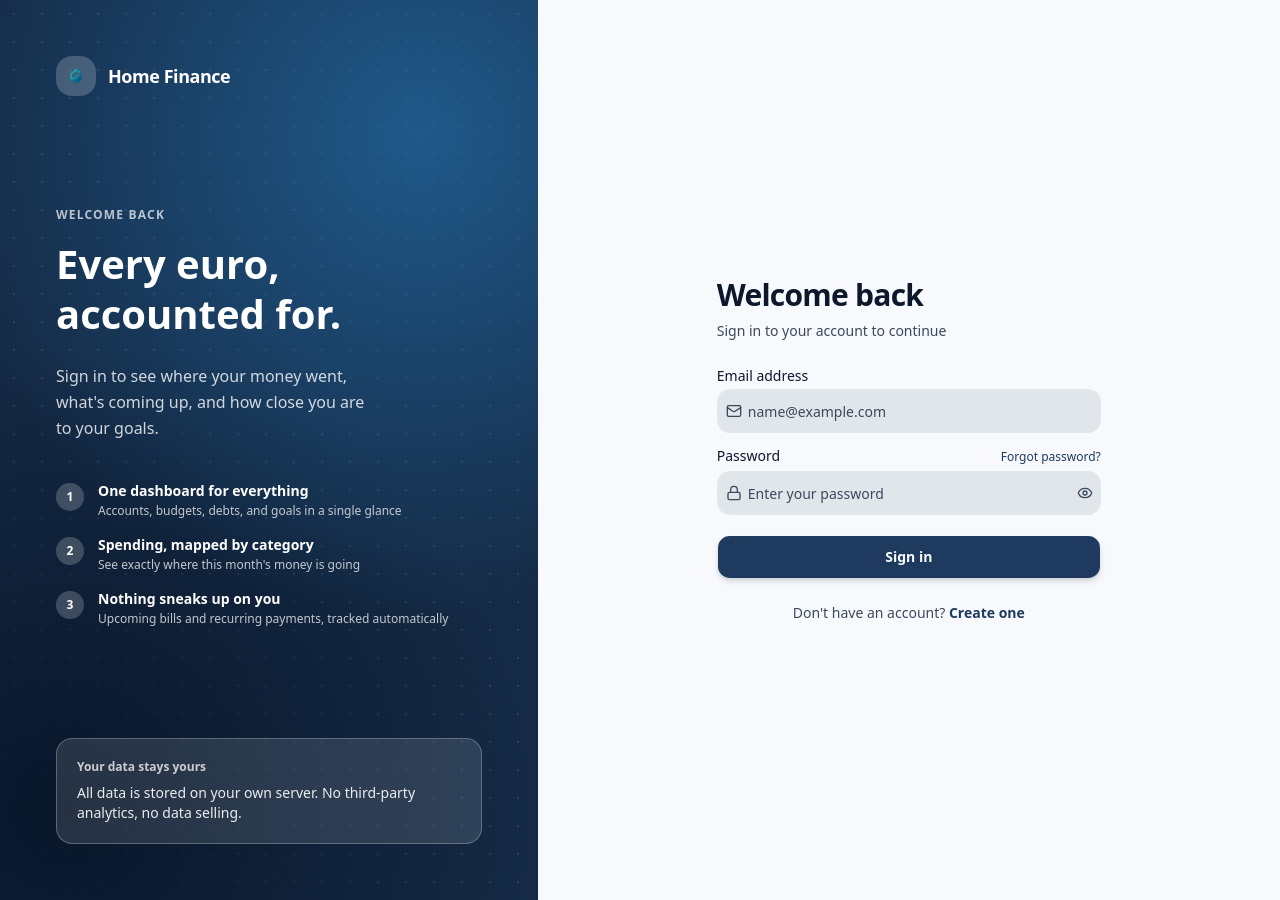
Test: LoginPage › shows a validation error when submitted empty
What coordinates should you click on to do the following:
click the button "Sign in"
I would click on:
 (909, 557)
Its box is left=717, top=535, right=1101, bottom=579.
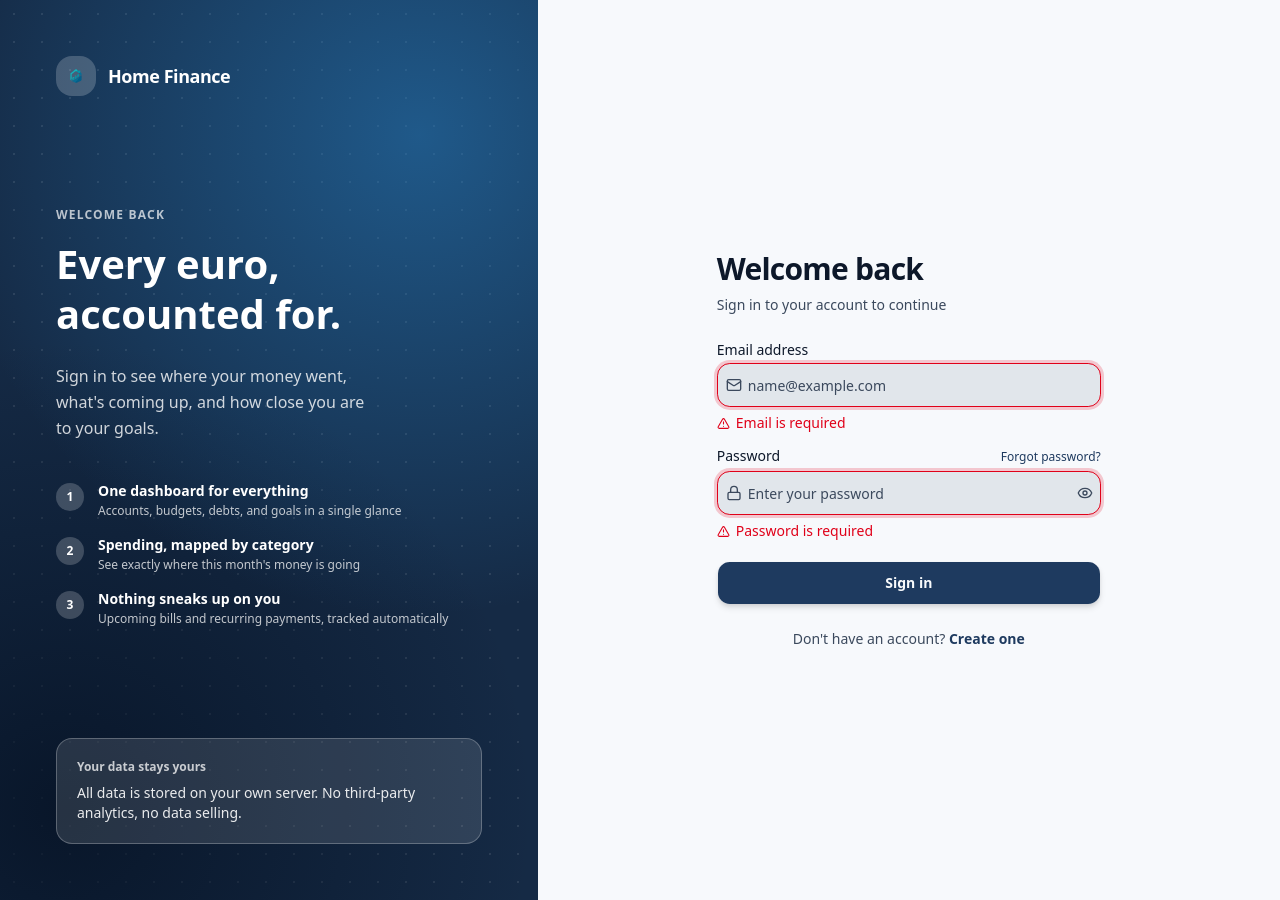
Now the text "Email is required" is shown, box left=717, top=413, right=846, bottom=432
